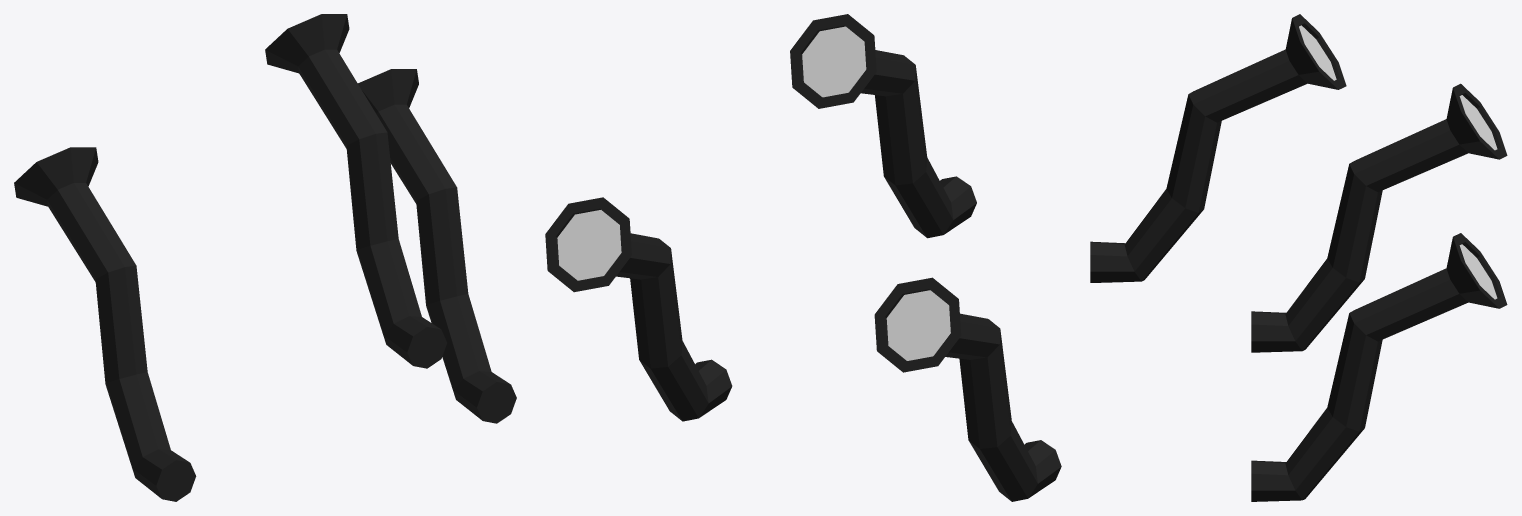
File: exhaust5.glb
3 renders of one model, left to right at view 1: azimuth 30°, elevation 25°; view 2: azimuth 150°, elevation 25°; view 3: azimuth 270°, elevation 25°, orthographic. The views are drawn at different scales.
Visible parts, largest first — view 1: exhaust5; view 2: exhaust5; view 3: exhaust5.
Part boxes in pixels (box(x1,y1,x2,y2)): exhaust5: box(14, 14, 516, 501); exhaust5: box(545, 14, 1061, 501); exhaust5: box(1090, 14, 1507, 501).
Size of the model in its own units: 2.41 by 2.46 by 2.26.
Materials: 1 (1 with a texture image).
